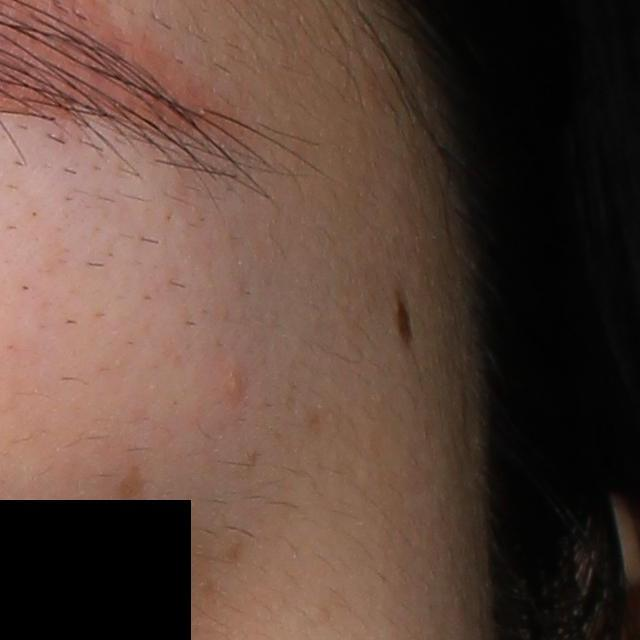melasma: (114, 463, 147, 530), (225, 533, 243, 565)
nevus: (391, 286, 418, 353)
papule: (219, 366, 251, 408)
